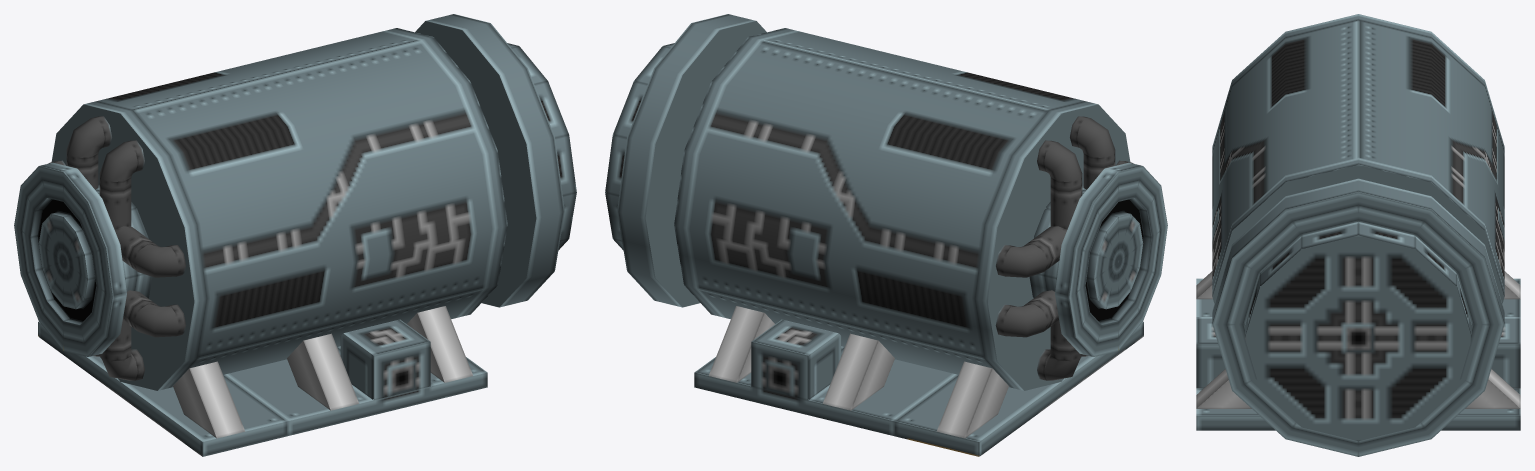
Rendered from klystron_static.obj.
3 renders of one model, left to right at view 1: azimuth 30°, elevation 25°; view 2: azimuth 150°, elevation 25°; view 3: azimuth 270°, elevation 25°, orthographic.
Visible parts, largest first — view 1: Klystron; view 2: Klystron; view 3: Klystron.
Part boxes in pixels (box(x1,y1,x2,y2)): Klystron: box(14, 14, 576, 456); Klystron: box(605, 14, 1167, 456); Klystron: box(1196, 14, 1520, 456).
Size of the model in its own units: 8 by 4.75 by 5.
